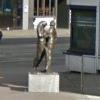Statue: (28, 18, 66, 76)
